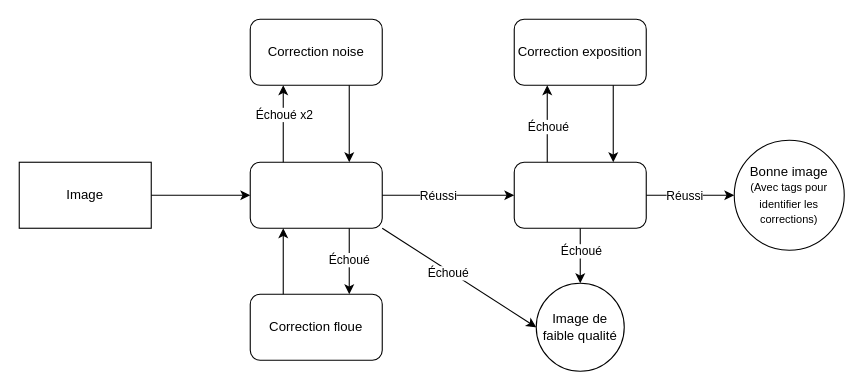
The diagram is 864 pixels wide and 391 high, and some of its shapes have lost their labels. Here are the shapes that lost their labels. From the top down, the centre of each, then its label:
At [315,194]: "Analyse BRISQUE".
At [579,194]: "Analyse d'exposition".
